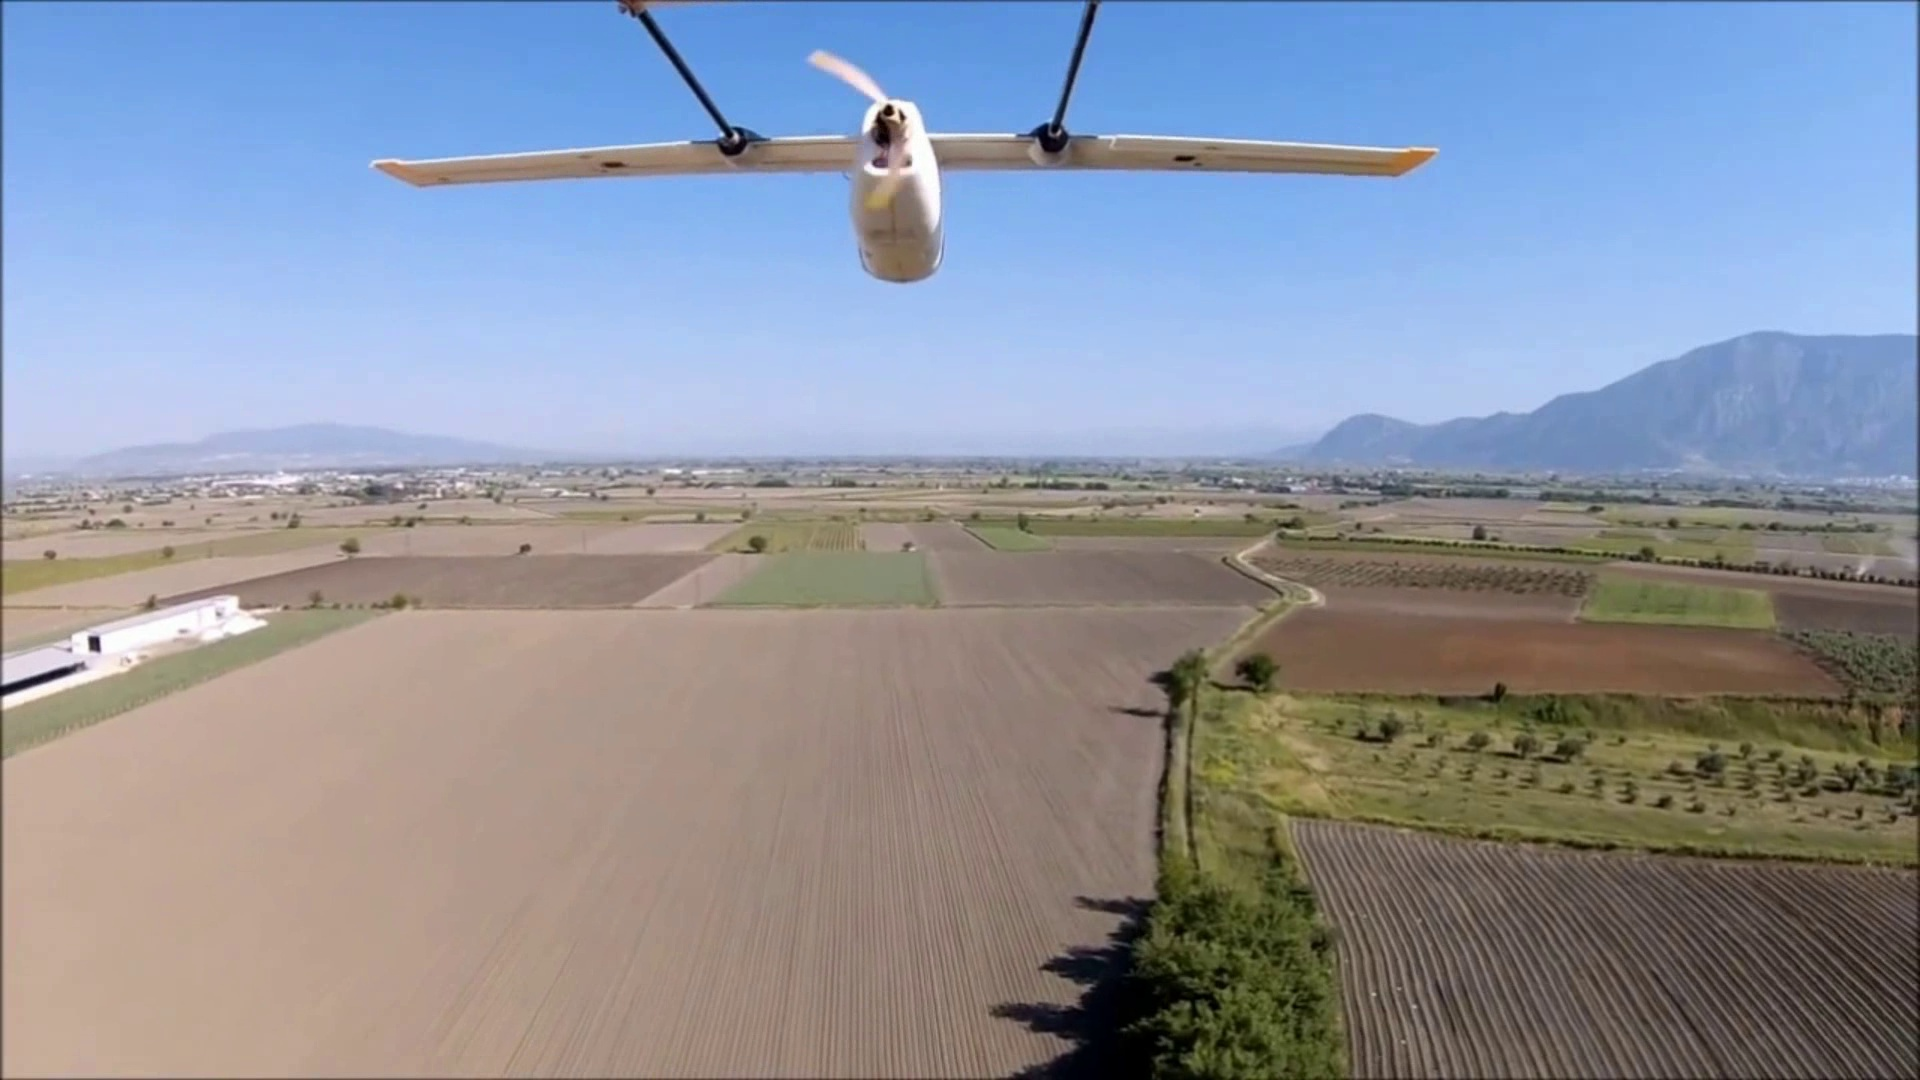airplane: (373, 1, 1436, 282)
